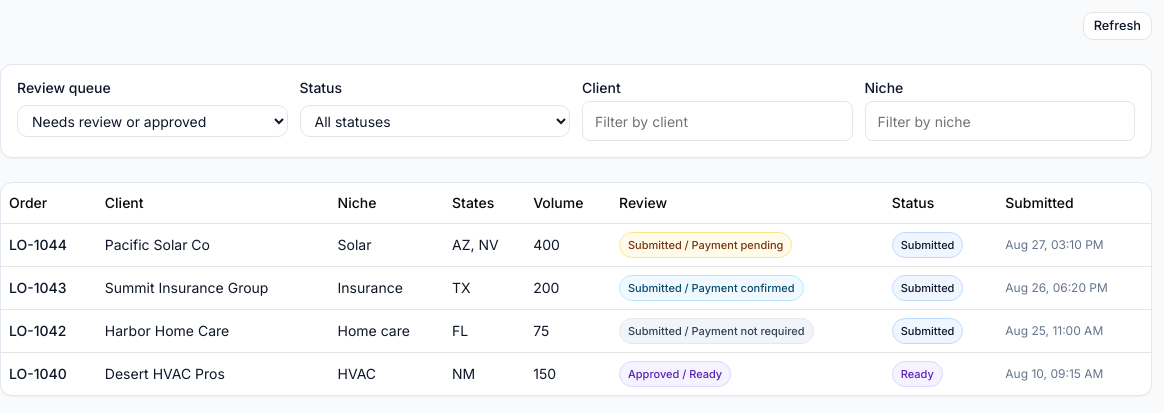
FoOrdersContent review queue › shows a filter empty state without dropping the loaded orders
This screenshot has width=1164, height=413.
Type "not-a-client" into the field labelled "Client" at x=717, y=121, box 582,101 -> 852,141
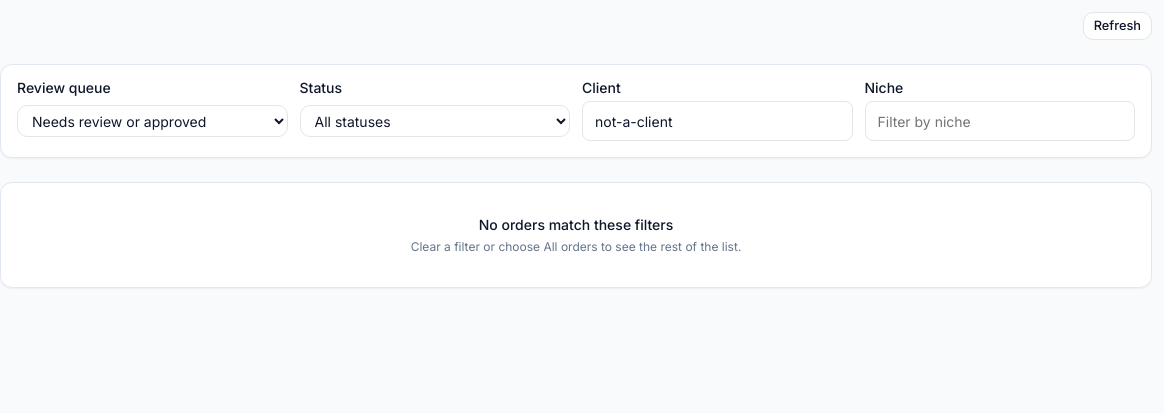
Check: the element with test id "orders-filter-empty" is shown, box 0,182 -> 1152,288
